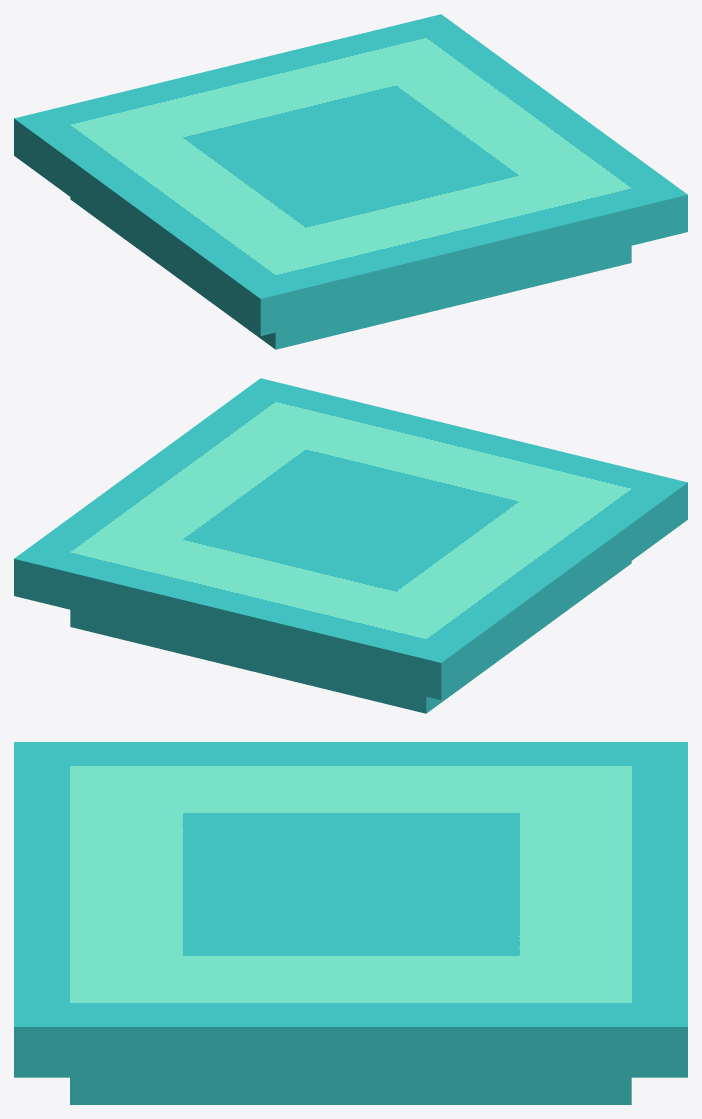
The model's file is PlatoBoost.fbx.
The picture shows the model from 3 angles, top to bottom: view 1: azimuth 30°, elevation 25°; view 2: azimuth 150°, elevation 25°; view 3: azimuth 270°, elevation 25°; orthographic projection. The views are drawn at different scales.
Visible parts, largest first — view 1: PlatoBoost; view 2: PlatoBoost; view 3: PlatoBoost.
Boxes of the visible parts, box(x1,y1,x2,y2) form: PlatoBoost: box(14, 14, 687, 349); PlatoBoost: box(14, 378, 687, 713); PlatoBoost: box(14, 742, 687, 1104).
Size of the model in its own units: 1.19 by 0.1991 by 1.19.
